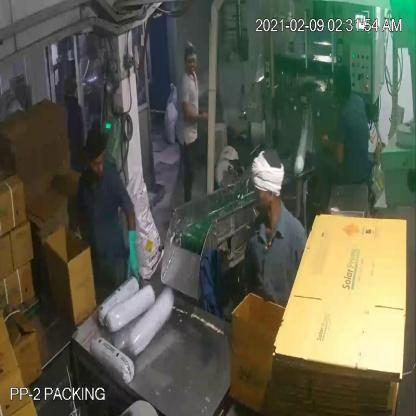glove: (116, 216, 144, 290)
no_glove: (314, 121, 348, 169), (178, 96, 214, 131)
